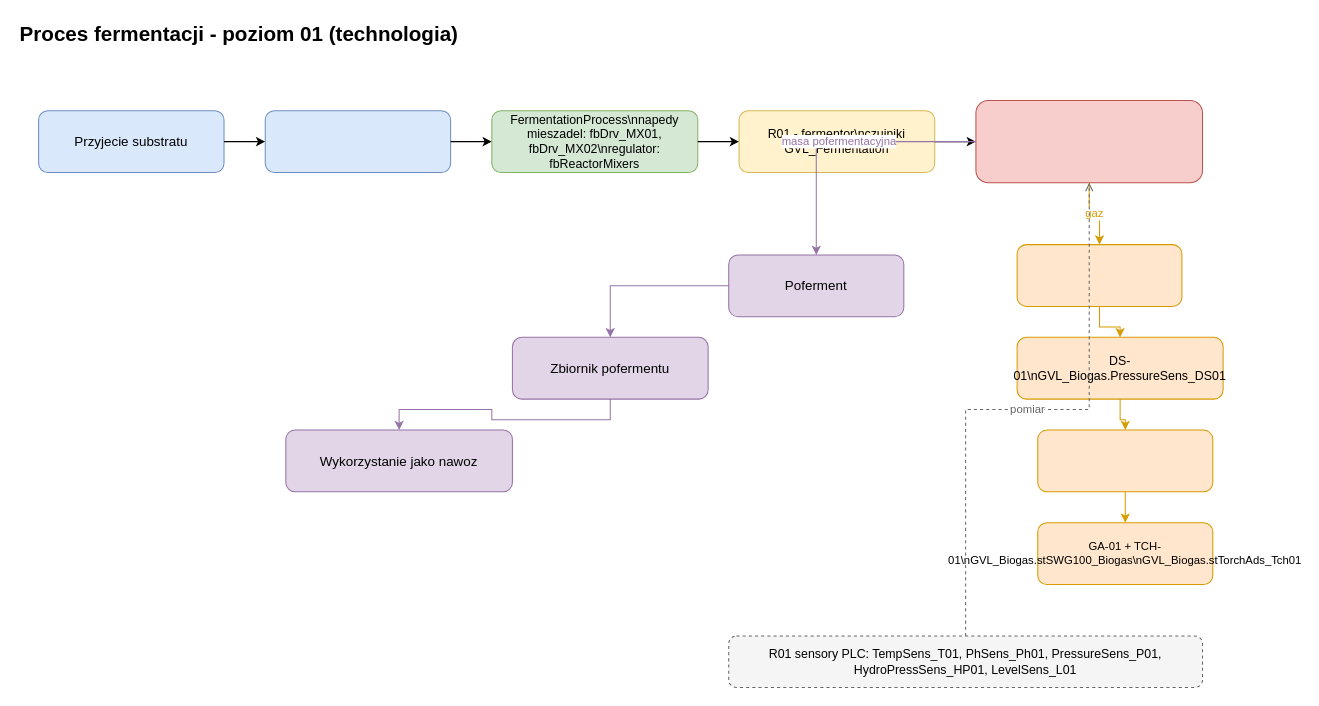
The diagram is 1319 pixels wide and 706 high, and some of its shapes have lost their labels. Each missing label, with the box of its shape:
F-01 przeplyw\nGVL_Biogas.FlowSens_F01: (1037, 429, 1213, 492)
GH-01\nGVL_Biogas.PressureSens_GH01: (1016, 244, 1182, 306)
Komora fermentacyjna R01\nPROGRAM: FermentationProcess: (975, 99, 1203, 183)
Magazyn substratu: (264, 110, 451, 173)
